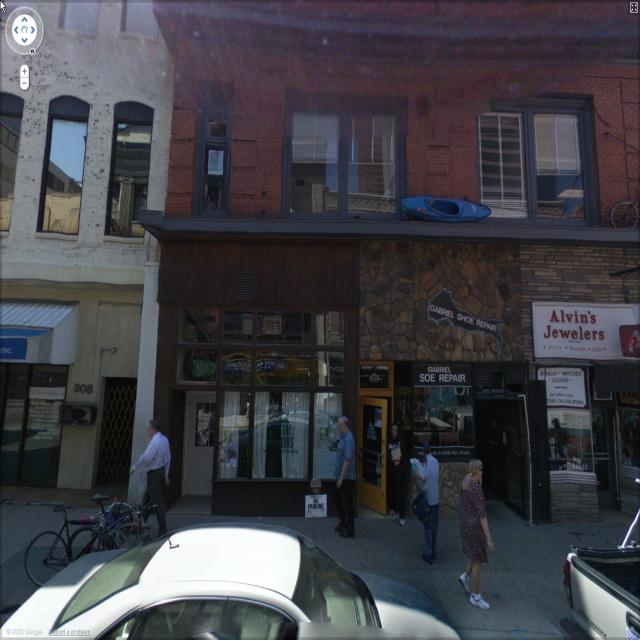b_1: (149, 1, 636, 454), (1, 10, 176, 499)
